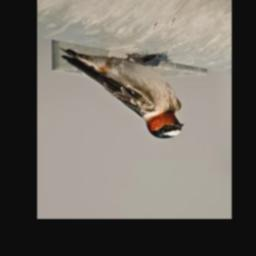Swallow: (58, 48, 185, 141)
